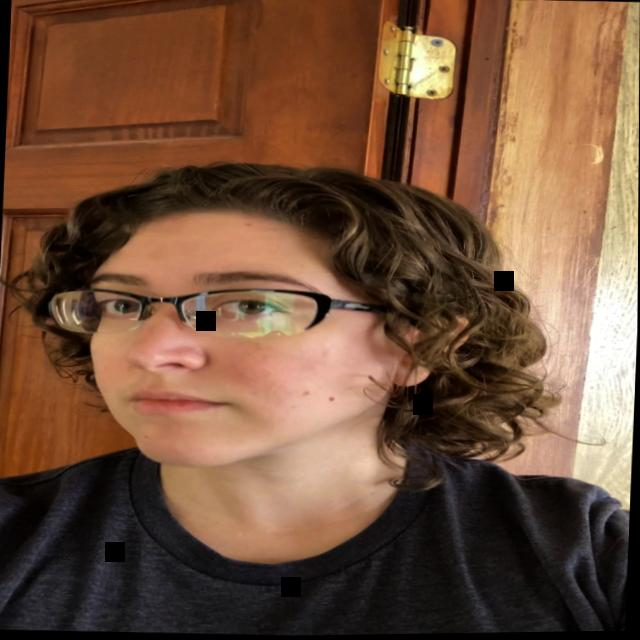NO-Mask: (70, 204, 432, 480)
